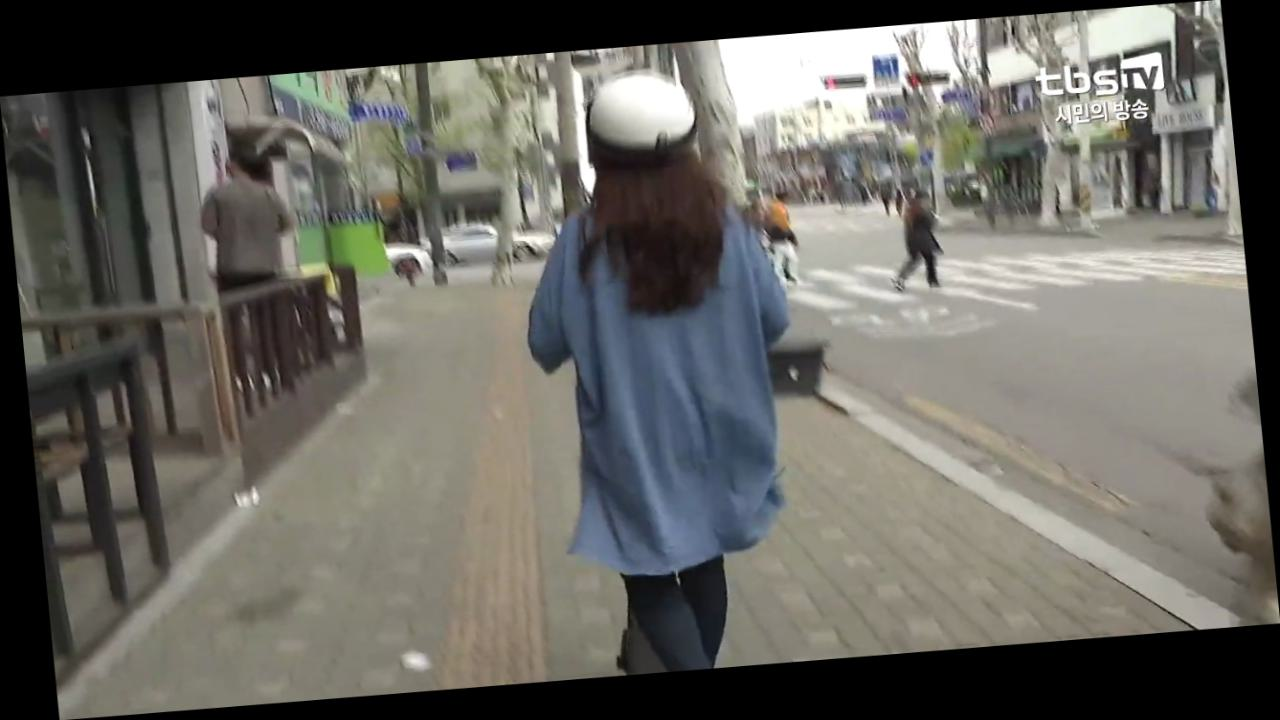helmet: (497, 59, 832, 681)
